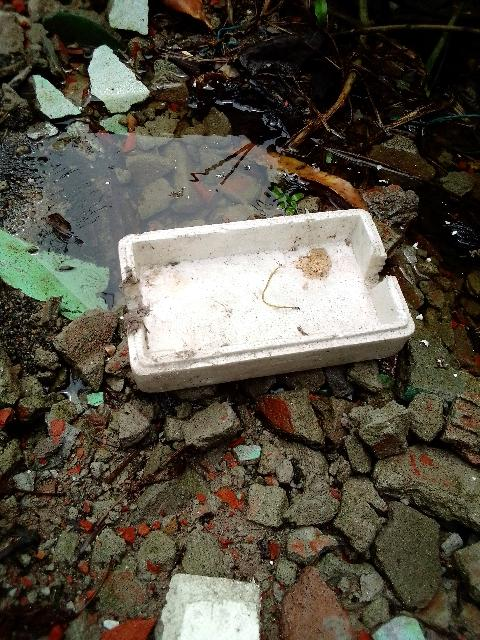cocksheet: (92, 182, 438, 384)
